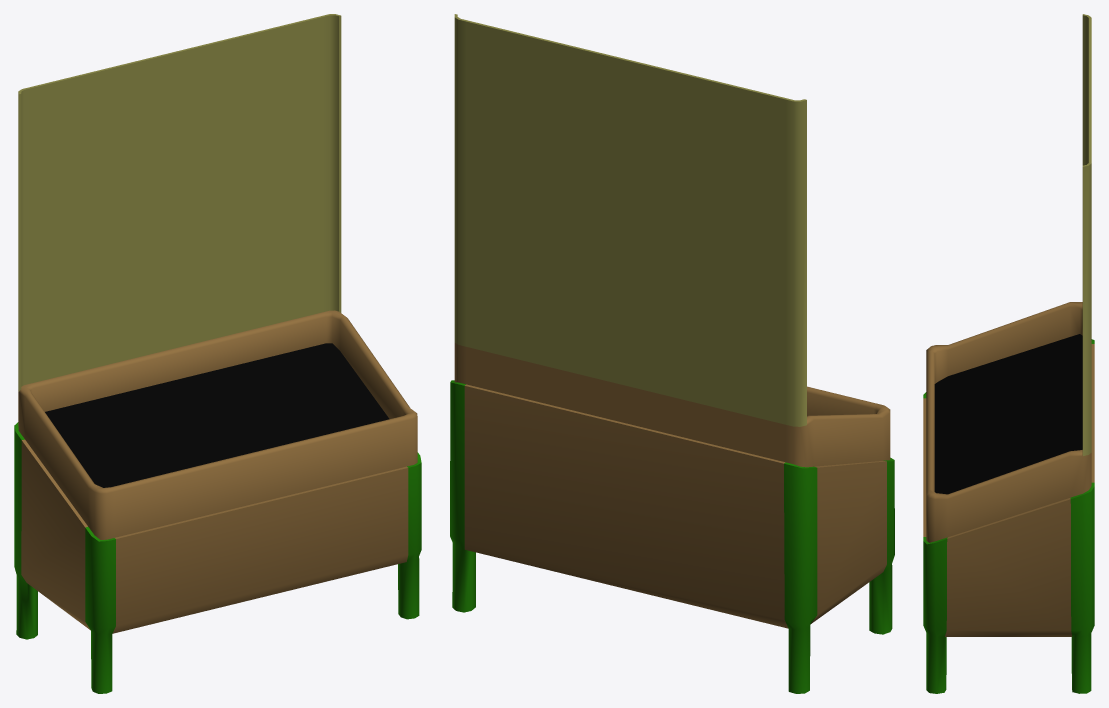
The model's file is Estanteria de exposicion baja.fbx.
3 renders of one model, left to right at view 1: azimuth 30°, elevation 25°; view 2: azimuth 150°, elevation 25°; view 3: azimuth 270°, elevation 25°, orthographic. The views are drawn at different scales.
Parts seen in each view (by area): view 1: Estante de pie de verduras y frutas; view 2: Estante de pie de verduras y frutas; view 3: Estante de pie de verduras y frutas.
Boxes of the visible parts, x1,y1,x2,y2 form: Estante de pie de verduras y frutas: [14, 14, 421, 693]; Estante de pie de verduras y frutas: [450, 14, 894, 693]; Estante de pie de verduras y frutas: [923, 14, 1094, 693].
Bounding box in the file's own units: 130 × 205 × 60.46.
